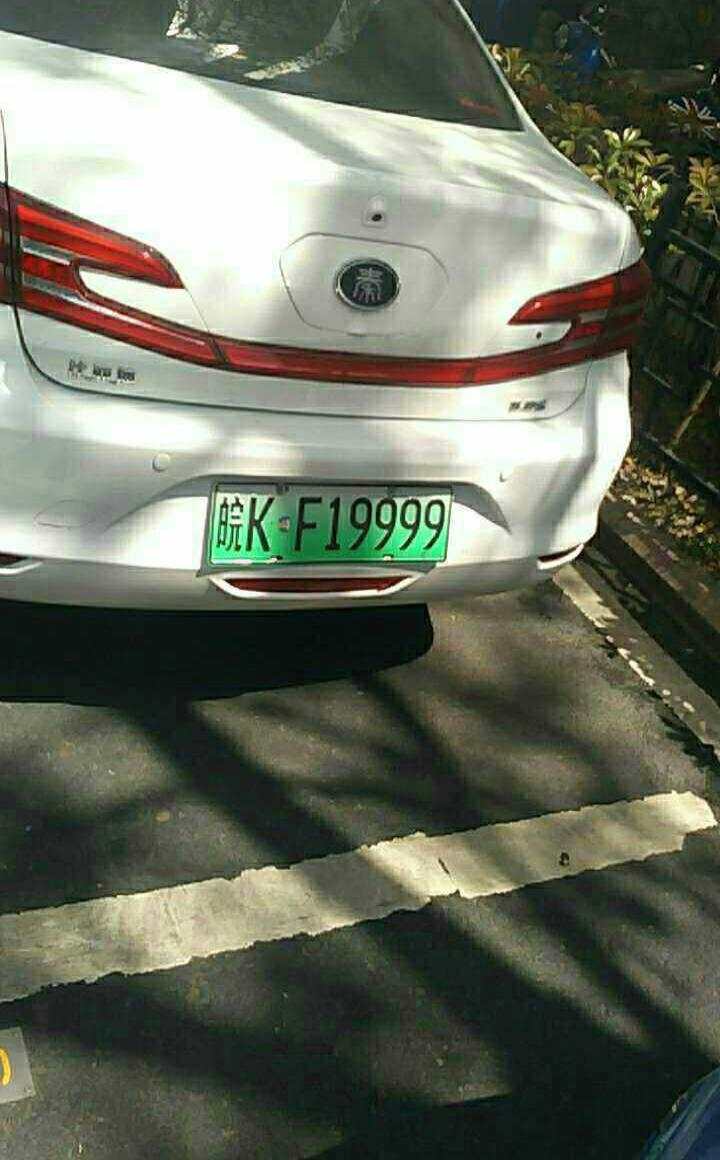car: (203, 477, 461, 568)
